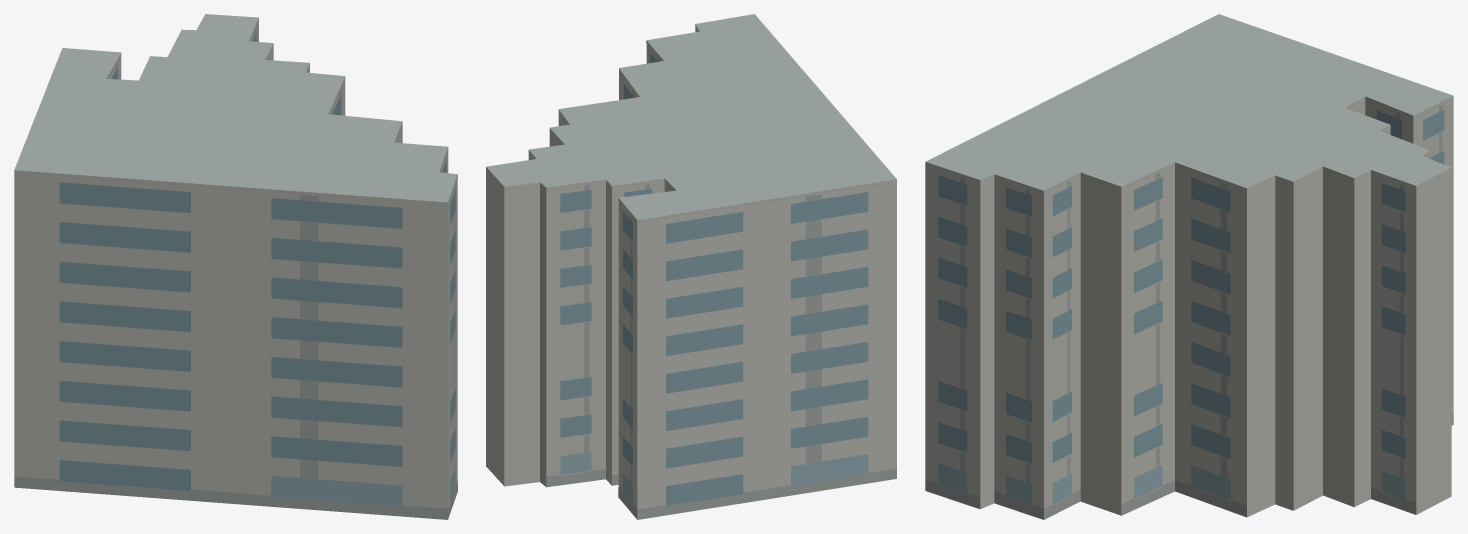
File: survey-upis-32687927.glb
3 renders of one model, left to right at view 1: azimuth 30°, elevation 25°; view 2: azimuth 150°, elevation 25°; view 3: azimuth 270°, elevation 25°, orthographic. The views are drawn at different scales.
Visible parts, largest first — view 1: survey-upis-32687927.tmp; view 2: survey-upis-32687927.tmp; view 3: survey-upis-32687927.tmp.
Boxes of the visible parts, box(x1,y1,x2,y2) form: survey-upis-32687927.tmp: box(14, 14, 457, 519); survey-upis-32687927.tmp: box(486, 14, 896, 519); survey-upis-32687927.tmp: box(925, 14, 1453, 519).
Size of the model in its own units: 25.91 by 22.47 by 32.71.
